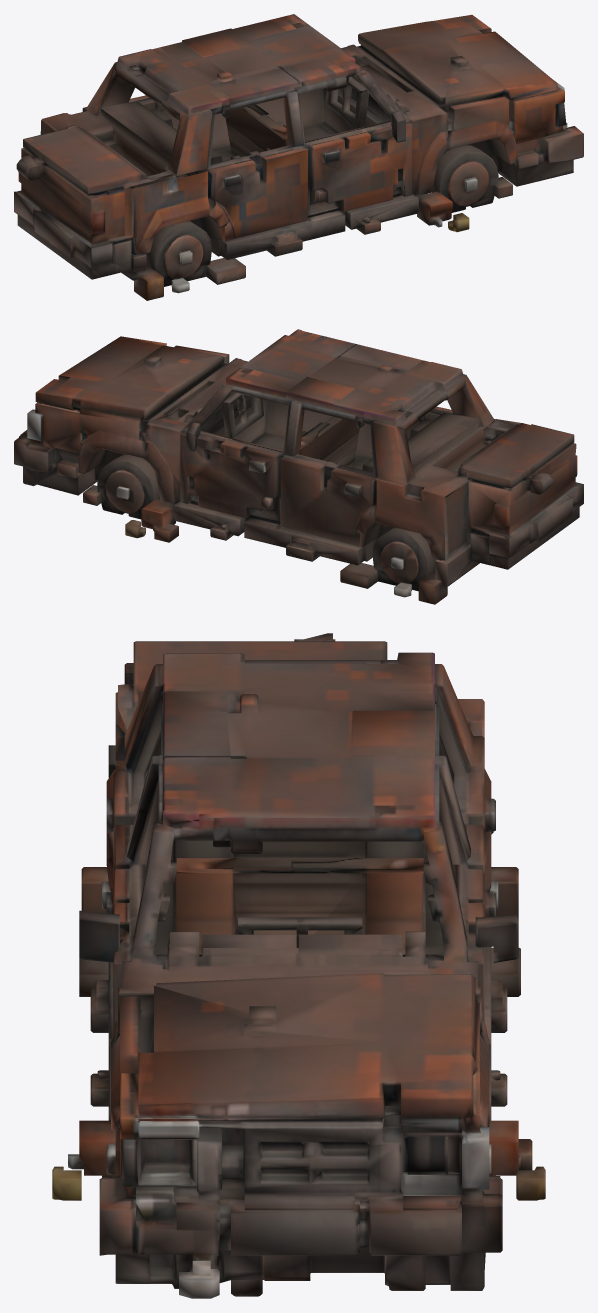
Rendered from car_wreck.glb.
The picture shows the model from 3 angles, top to bottom: view 1: azimuth 30°, elevation 25°; view 2: azimuth 150°, elevation 25°; view 3: azimuth 270°, elevation 25°; orthographic projection. The views are drawn at different scales.
Parts seen in each view (by area): view 1: tripo_node_65df1ccd-be5d-4b57-841e-61a36a4c251e; view 2: tripo_node_65df1ccd-be5d-4b57-841e-61a36a4c251e; view 3: tripo_node_65df1ccd-be5d-4b57-841e-61a36a4c251e.
Boxes of the visible parts, left/top/right/bottom form: tripo_node_65df1ccd-be5d-4b57-841e-61a36a4c251e: left=14, top=14, right=583, bottom=300; tripo_node_65df1ccd-be5d-4b57-841e-61a36a4c251e: left=14, top=329, right=583, bottom=604; tripo_node_65df1ccd-be5d-4b57-841e-61a36a4c251e: left=52, top=633, right=545, bottom=1298.
Size of the model in its own units: 1 by 0.3053 by 0.4266.
1 material, 1 textured.
